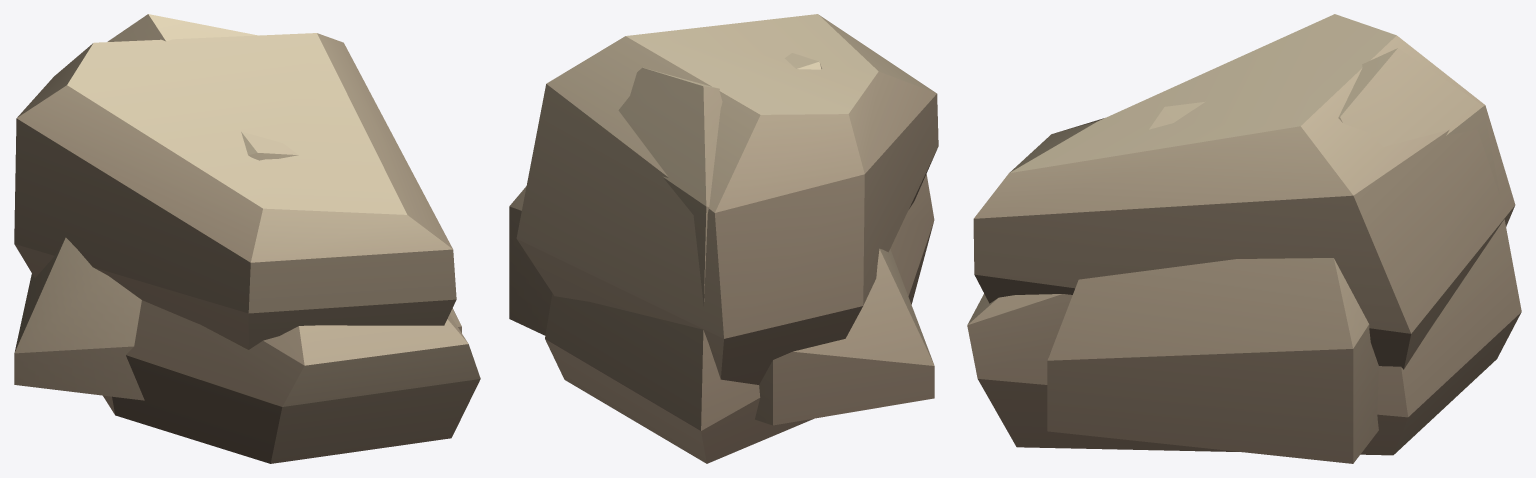
Rendered from SM_ME_Generic_Rocks.FBX.
3 views of the same model, side by side, from view 1: azimuth 30°, elevation 25°; view 2: azimuth 150°, elevation 25°; view 3: azimuth 270°, elevation 25° (orthographic). The views are drawn at different scales.
Parts seen in each view (by area): view 1: Rocks_Meadows (×3); view 2: Rocks_Meadows (×3); view 3: Rocks_Meadows (×3).
Boxes of the visible parts, bbox=[...] form: Rocks_Meadows (×3): bbox=[14, 14, 480, 463]; Rocks_Meadows (×3): bbox=[509, 14, 938, 463]; Rocks_Meadows (×3): bbox=[967, 14, 1521, 463].
Size of the model in its own units: 95.26 by 74.94 by 112.
